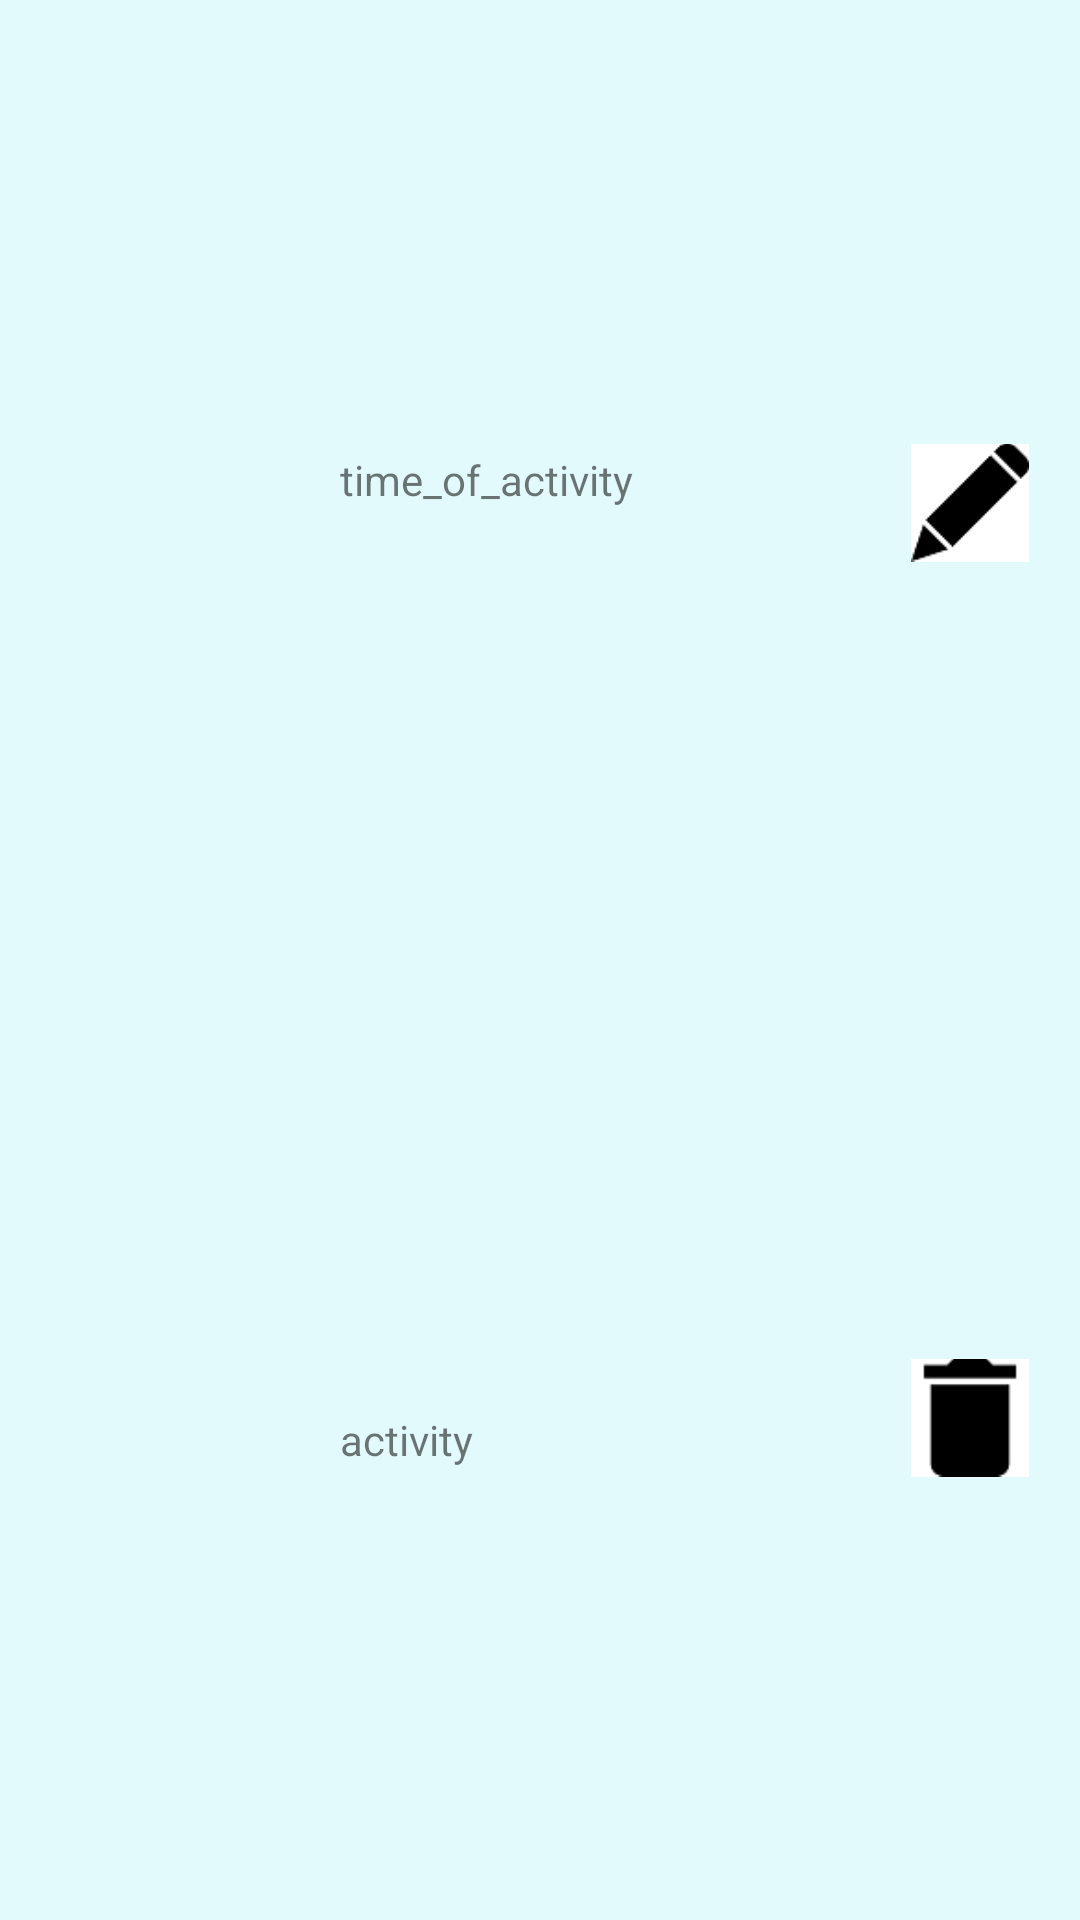

Icon click points for this 1080 × 1920 phone screenshot, format point (x, y):
delete: point (970, 1418)
edit: point (970, 503)
